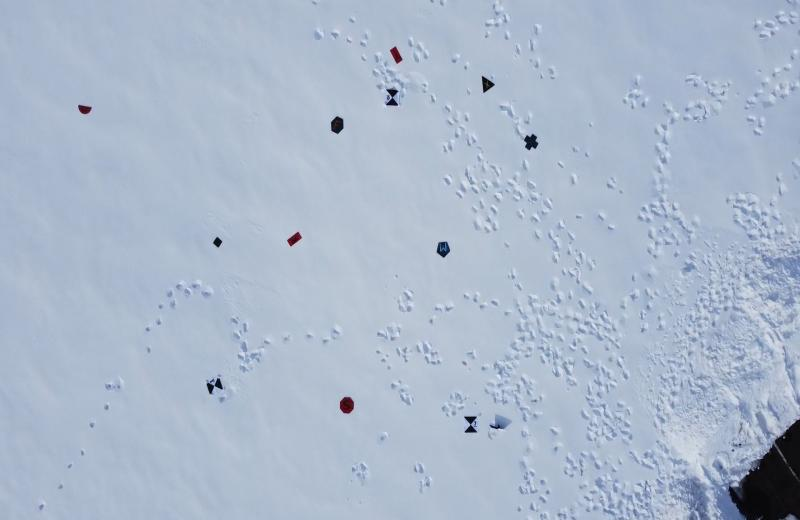Cross: (524, 134, 540, 152)
Hexagon: (330, 116, 345, 135)
Octagon: (339, 396, 355, 414)
Pentagon: (435, 241, 450, 258)
Rectangle: (286, 230, 302, 248), (389, 46, 403, 65)
Semi Circle: (76, 105, 92, 116)
Square: (213, 236, 223, 248)
Triangle: (480, 74, 494, 93)
